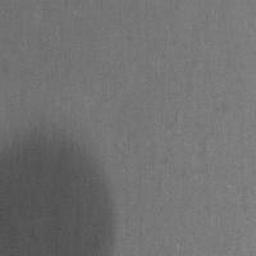Oil spot: (0, 115, 123, 256)
